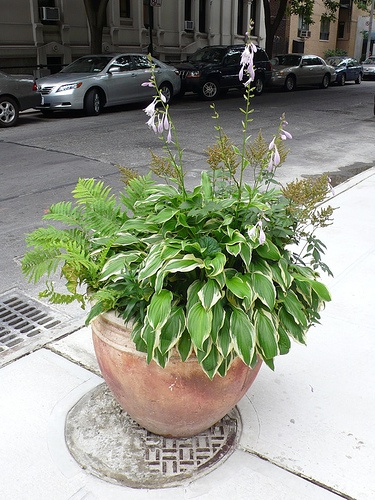flowerpot: (89, 286, 270, 439)
